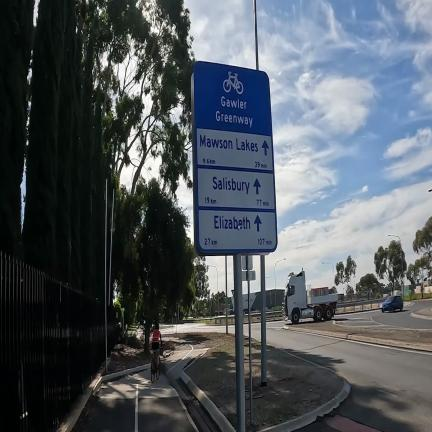Bike_Lane: (83, 345, 205, 432)
Bike_Sign: (191, 61, 277, 255)
